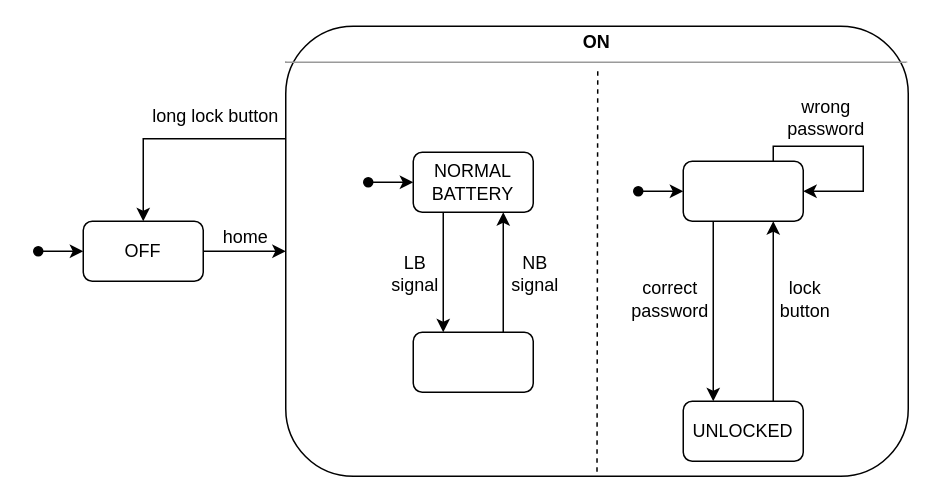
Image size: 935x504. Some labels were removed from this diagram. Here are the shapes that lost their labels. From the top down, the centre of each, then its label:
(742,190): LOCKED
(472,361): LOW BATTERY
